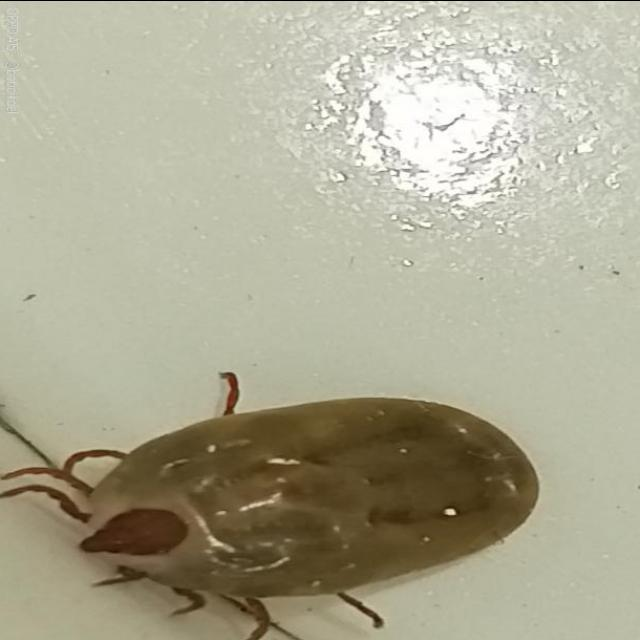Rhipicephalus Sanguineus-F-Fed: (0, 370, 539, 640)
